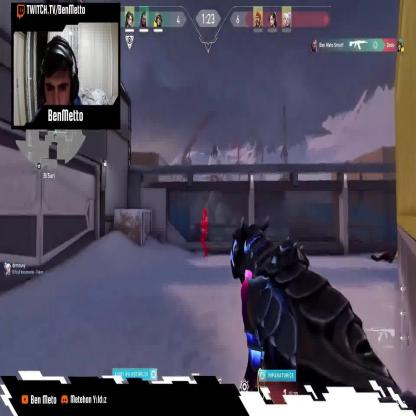enemy: (199, 208, 209, 258)
enemy_head: (203, 209, 207, 216)
